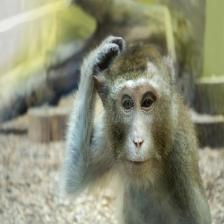monkey: (76, 46, 194, 214)
